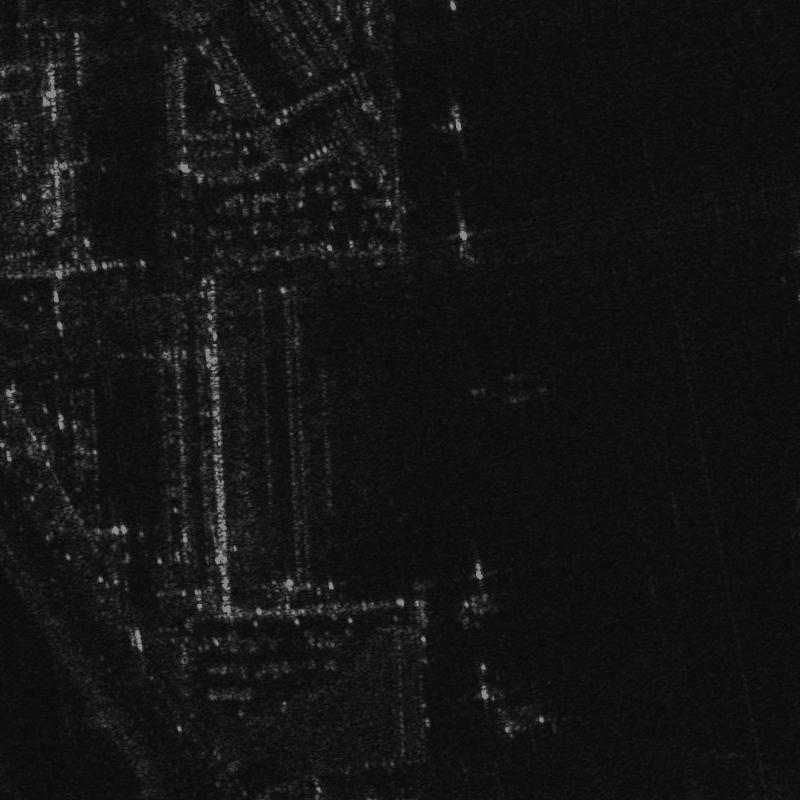A220: (484, 682, 578, 746)
other: (782, 215, 799, 339)
